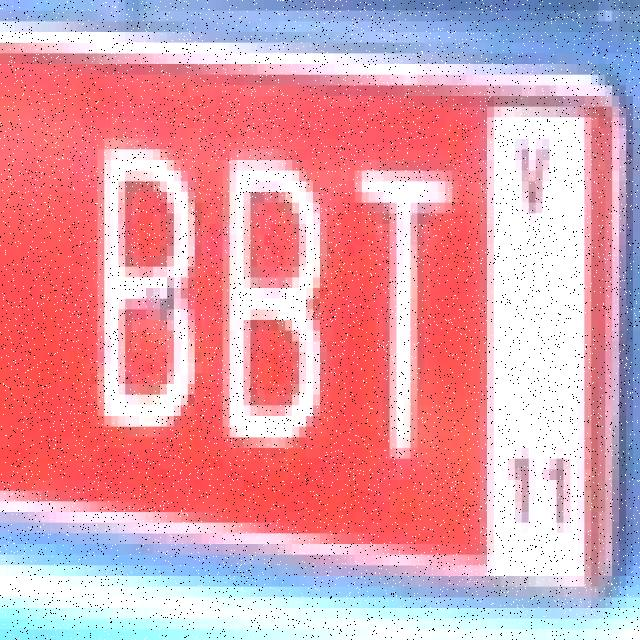licenseplate: (2, 20, 573, 593), (573, 588, 613, 594)
